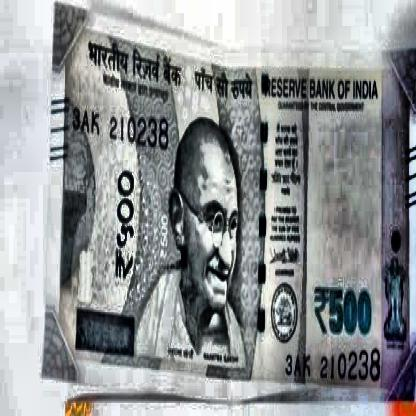Rs500: (312, 277, 375, 344)
